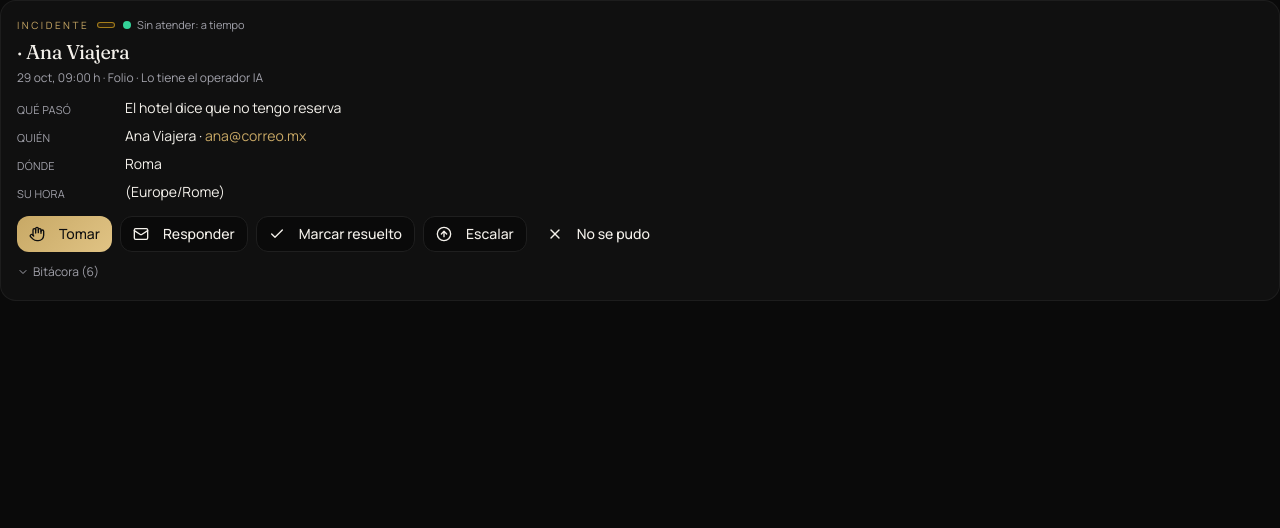
Test: Mesa: bitácora del operador › resumen del operador (acciones, gasto, si pasó a una persona) y cada acción con su nombre en español
Click the button with test id "incident-log-toggle" at (58, 272), box [17,264,99,280]
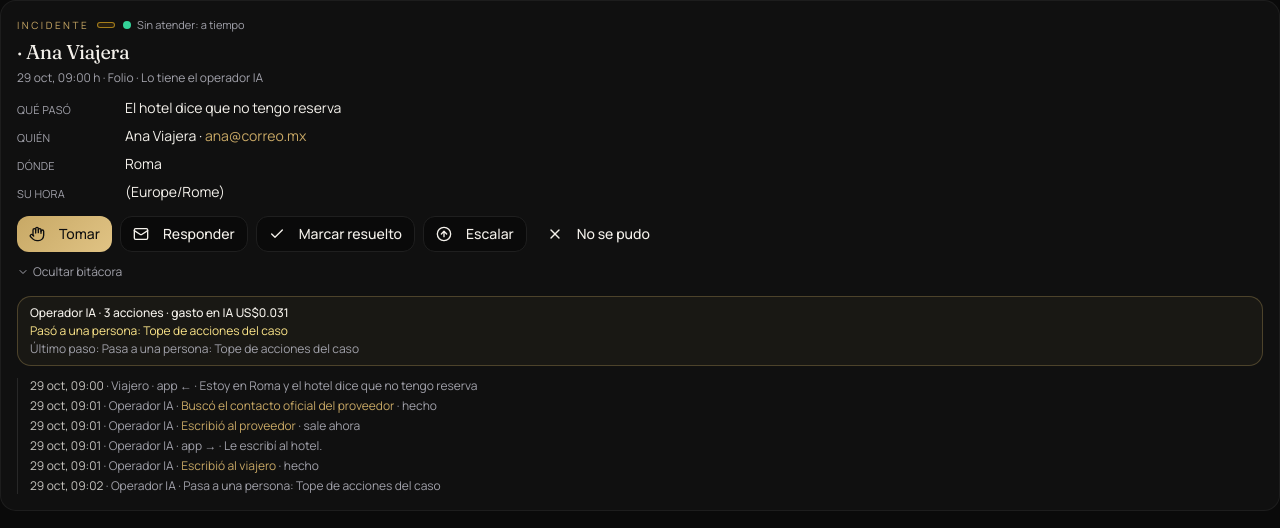
Check: the element with test id "operator-summary" shows "Operador IA · 3 acciones · gasto en IA US$0.031", box [17,296,1263,366]
Check: the element with test id "operator-summary" shows "Pasó a una persona: Tope de acciones del caso", box [17,296,1263,366]
Check: the list with test id "incident-log" shows "Operador IA · Escribió al proveedor · sale ahora", box [17,378,1263,494]
